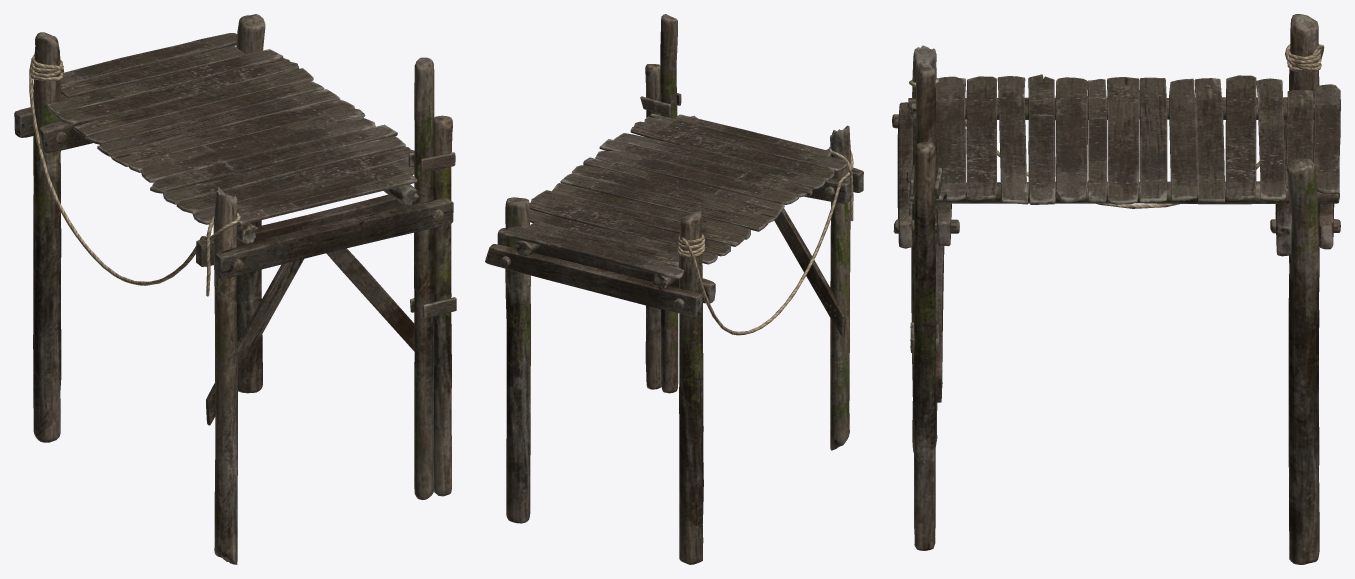
Rendered from modular_wooden_pier.glb.
The picture shows the model from 3 angles, left to right: view 1: azimuth 30°, elevation 25°; view 2: azimuth 150°, elevation 25°; view 3: azimuth 270°, elevation 25°; orthographic projection. The views are drawn at different scales.
Visible parts, largest first — view 1: modular_wooden_pier_section_01; view 2: modular_wooden_pier_section_01; view 3: modular_wooden_pier_section_01.
Boxes of the visible parts, x1=… form: modular_wooden_pier_section_01: x1=14, y1=14, x2=456, y2=564; modular_wooden_pier_section_01: x1=485, y1=14, x2=863, y2=564; modular_wooden_pier_section_01: x1=892, y1=14, x2=1340, y2=564.
Size of the model in its own units: 2.49 by 4.27 by 3.52.
Materials: 2 (2 with a texture image).
